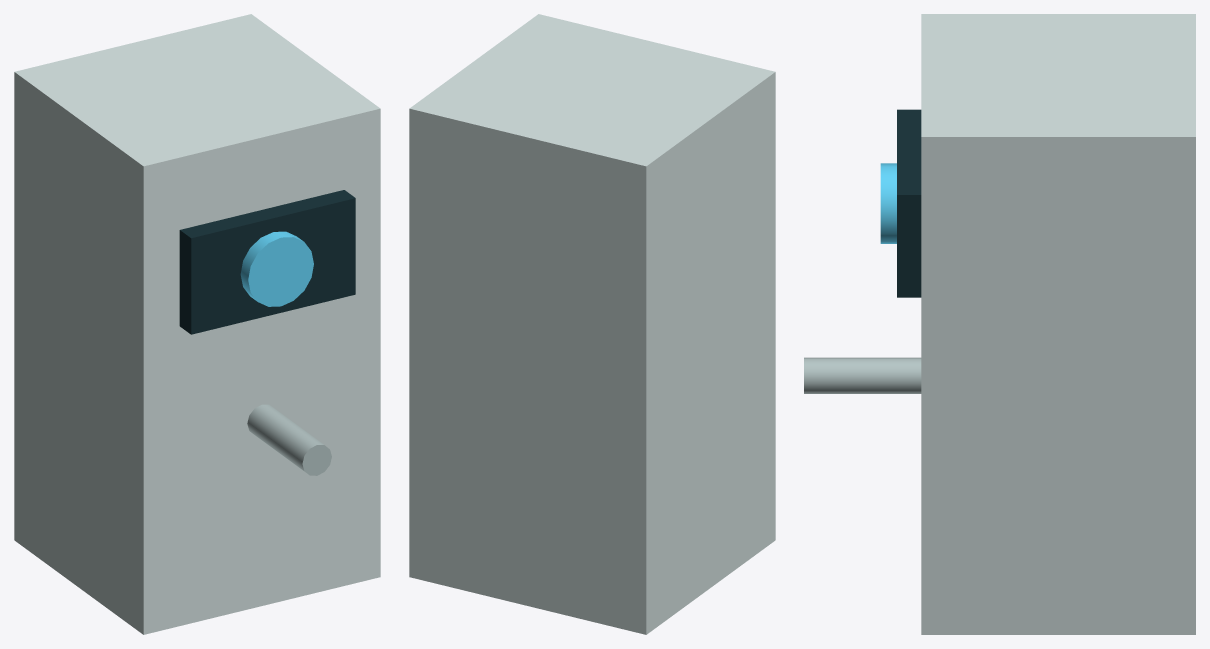
The model's file is cold-water-dispenser.glb.
The picture shows the model from 3 angles, left to right: view 1: azimuth 30°, elevation 25°; view 2: azimuth 150°, elevation 25°; view 3: azimuth 270°, elevation 25°; orthographic projection. The views are drawn at different scales.
Visible parts, largest first — view 1: CoolingBody, ColdDisplay, SnowButton, ColdSpout; view 2: CoolingBody; view 3: CoolingBody, ColdDisplay, ColdSpout, SnowButton.
Part boxes in pixels (x1=…): CoolingBody: x1=14, y1=14, x2=380, y2=634; ColdDisplay: x1=179, y1=190, x2=355, y2=334; SnowButton: x1=240, y1=231, x2=313, y2=306; ColdSpout: x1=247, y1=404, x2=331, y2=475; CoolingBody: x1=409, y1=14, x2=775, y2=634; CoolingBody: x1=921, y1=14, x2=1195, y2=634; ColdDisplay: x1=897, y1=109, x2=921, y2=297; ColdSpout: x1=804, y1=357, x2=921, y2=393; SnowButton: x1=880, y1=163, x2=896, y2=243.
Bounding box in the file's own units: 0.72 × 1.36 × 0.97.
